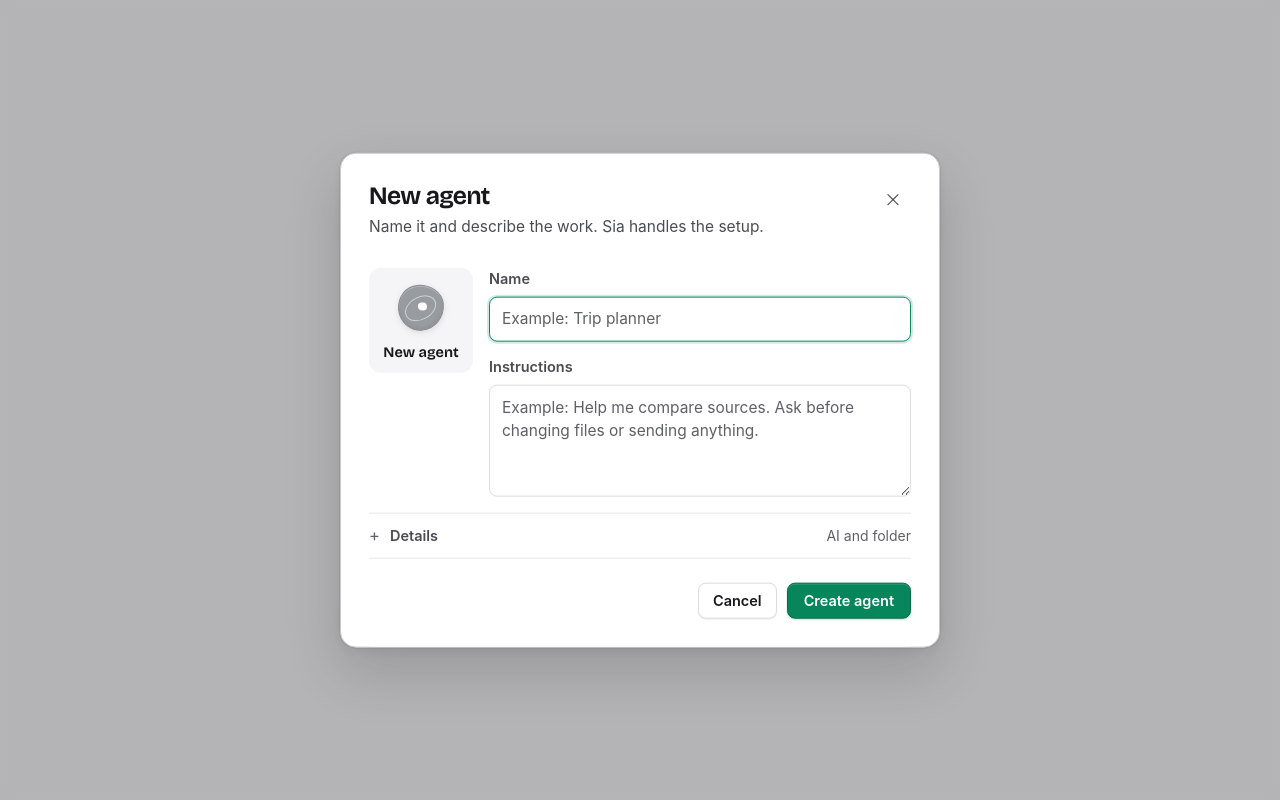
agent dialog › keeps the primary creation form to name and instructions
Expected: the field labelled "Name" is shown, [489,297,911,341]
Expected: the text box labelled "Instructions" is shown, [489,384,911,496]
What coordinates should you click on to do the following:
click the text "Details"
I would click on:
 (414, 535)
Its box is [390,525,438,546].
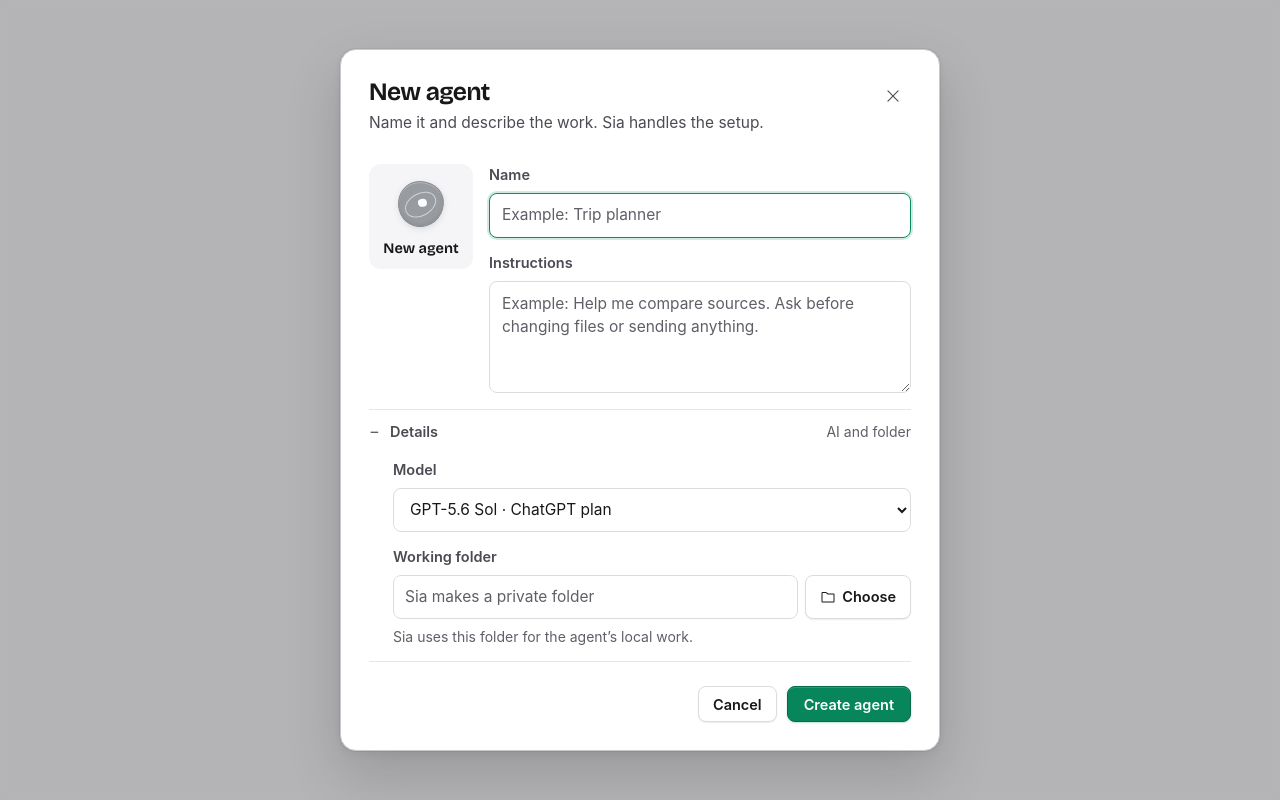
Now the dropdown labelled "Model" is shown, box [393,488,911,532]
